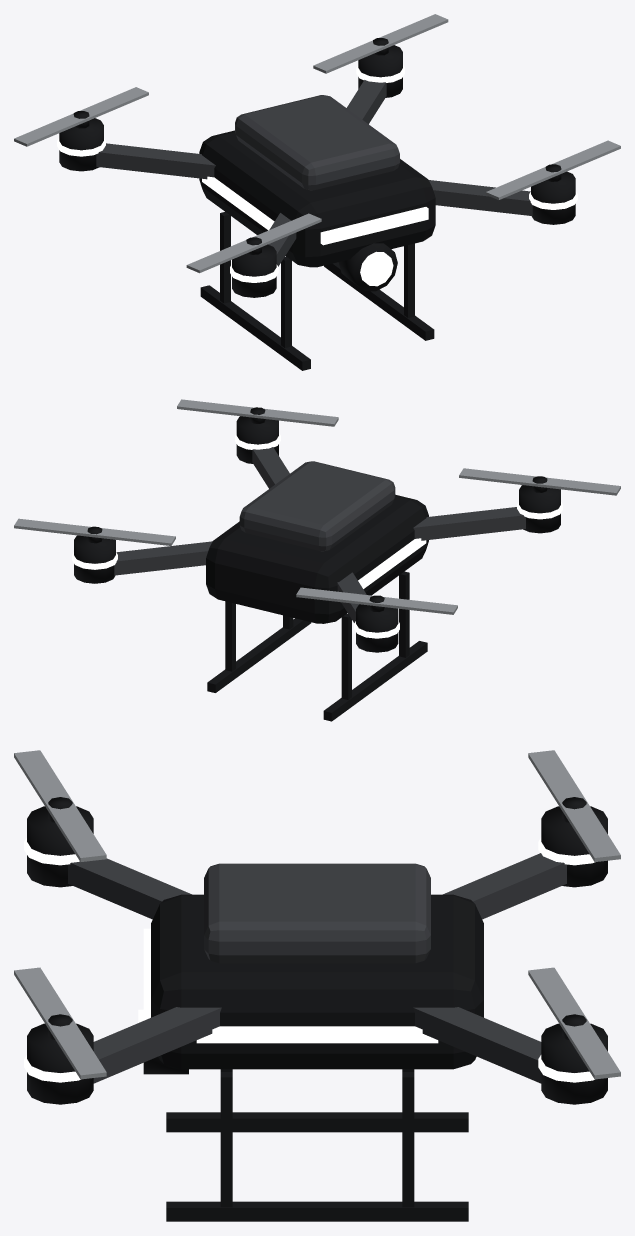
Rendered from drone.glb.
The picture shows the model from 3 angles, top to bottom: view 1: azimuth 30°, elevation 25°; view 2: azimuth 150°, elevation 25°; view 3: azimuth 270°, elevation 25°; orthographic projection. The views are drawn at different scales.
Parts seen in each view (by area): view 1: drone_body, rotor_BR, rotor_BL, rotor_FR, rotor_FL; view 2: drone_body, rotor_BL, rotor_FR, rotor_FL, rotor_BR; view 3: drone_body, rotor_BR, rotor_BL, rotor_FL, rotor_FR.
Part boxes in pixels (<box>): drone_body: <box>57,45,577,370</box>; rotor_BR: <box>313,14,448,73</box>; rotor_BL: <box>14,87,148,146</box>; rotor_FR: <box>486,140,620,199</box>; rotor_FL: <box>186,213,321,273</box>; drone_body: <box>72,416,562,721</box>; rotor_BL: <box>296,587,457,614</box>; rotor_FR: <box>177,399,338,426</box>; rotor_FL: <box>459,468,620,495</box>; rotor_BR: <box>14,518,175,545</box>; drone_body: <box>24,806,607,1221</box>; rotor_BR: <box>528,967,620,1079</box>; rotor_BL: <box>528,750,620,861</box>; rotor_FL: <box>14,750,106,861</box>; rotor_FR: <box>14,967,106,1079</box>.
Bounding box in the file's own units: 0.5089 × 0.205 × 0.4014.
Materials: 1 (1 with a texture image).
